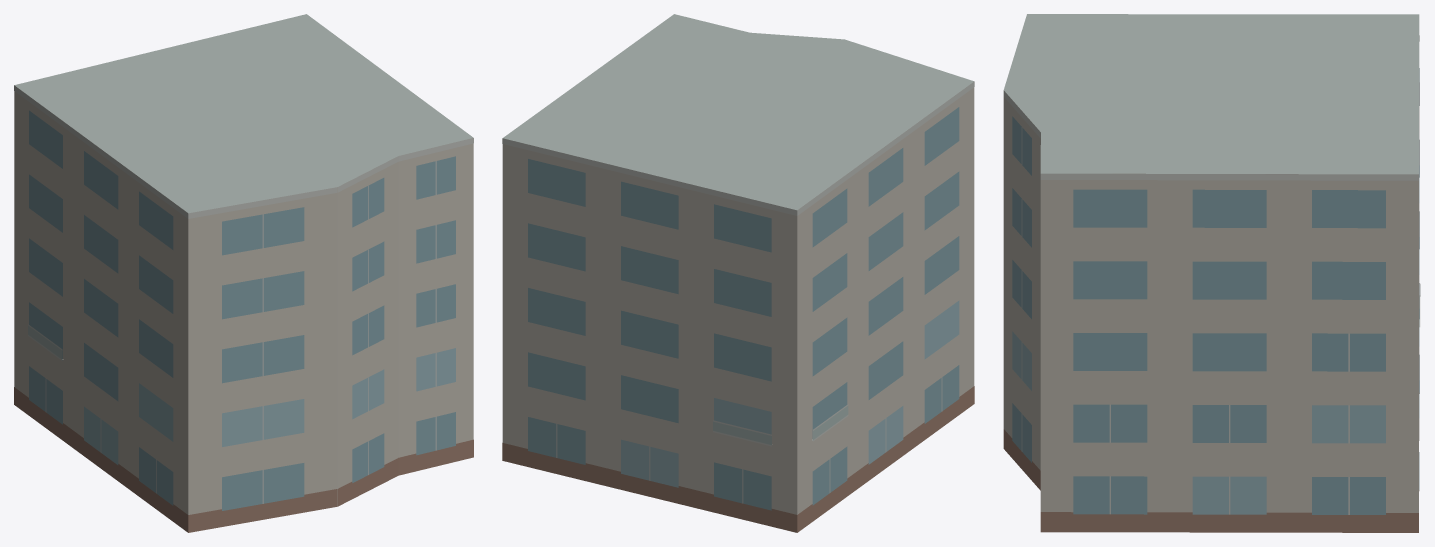
File: survey-upis-32873995.glb
3 renders of one model, left to right at view 1: azimuth 30°, elevation 25°; view 2: azimuth 150°, elevation 25°; view 3: azimuth 270°, elevation 25°, orthographic. The views are drawn at different scales.
Visible parts, largest first — view 1: survey-upis-32873995.tmp; view 2: survey-upis-32873995.tmp; view 3: survey-upis-32873995.tmp.
Part boxes in pixels (box(x1,y1,x2,y2)): survey-upis-32873995.tmp: box(14, 14, 473, 532); survey-upis-32873995.tmp: box(502, 14, 974, 532); survey-upis-32873995.tmp: box(1003, 14, 1420, 532).
Size of the model in its own units: 13.26 by 13.8 by 14.55.
